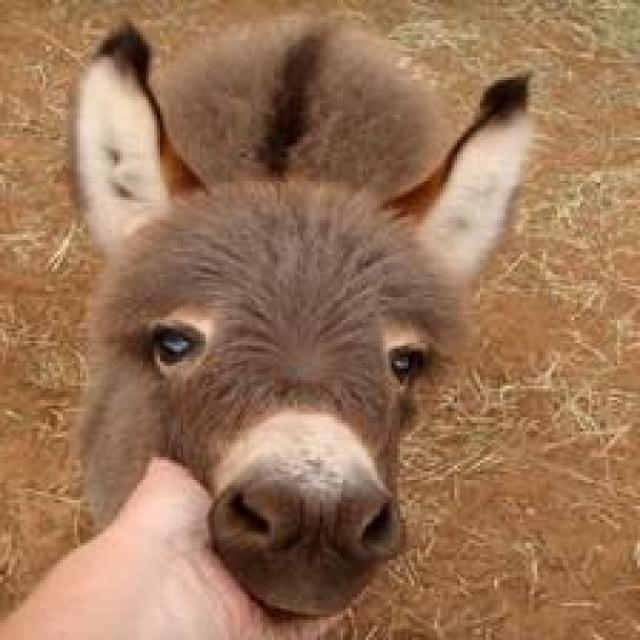Donkey: (69, 6, 534, 620)
